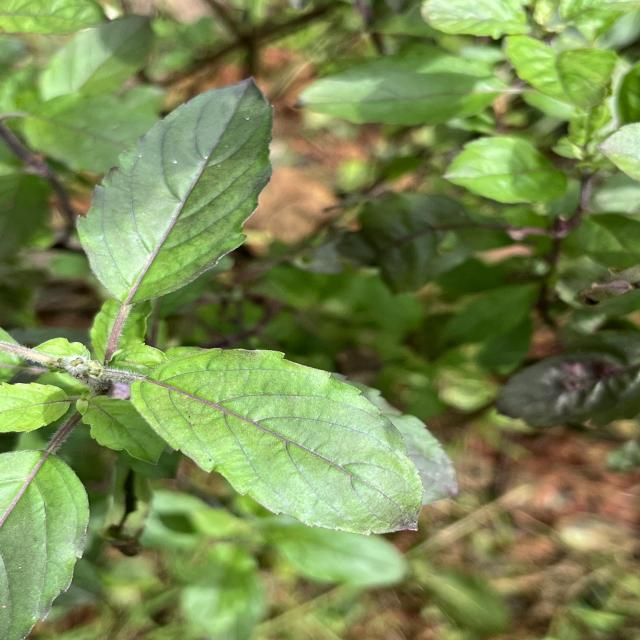Ocimum tenuiflorum: (130, 345, 426, 537), (73, 74, 278, 306)
